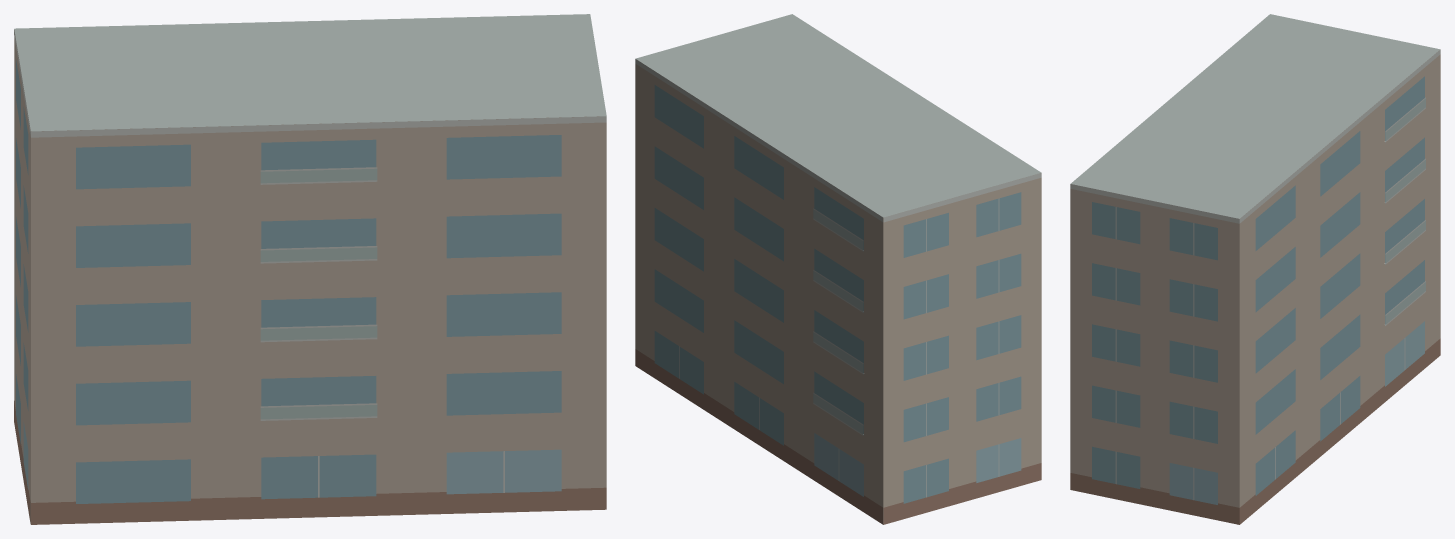
Rendered from survey-upis-32976134.glb.
3 renders of one model, left to right at view 1: azimuth 30°, elevation 25°; view 2: azimuth 150°, elevation 25°; view 3: azimuth 270°, elevation 25°, orthographic. The views are drawn at different scales.
Visible parts, largest first — view 1: survey-upis-32976134.tmp; view 2: survey-upis-32976134.tmp; view 3: survey-upis-32976134.tmp.
Boxes of the visible parts, x1,y1,x2,y2 form: survey-upis-32976134.tmp: (14, 14, 606, 524); survey-upis-32976134.tmp: (635, 14, 1041, 524); survey-upis-32976134.tmp: (1070, 14, 1440, 524).
Bounding box in the file's own units: 21.91 × 15.25 × 16.73.
